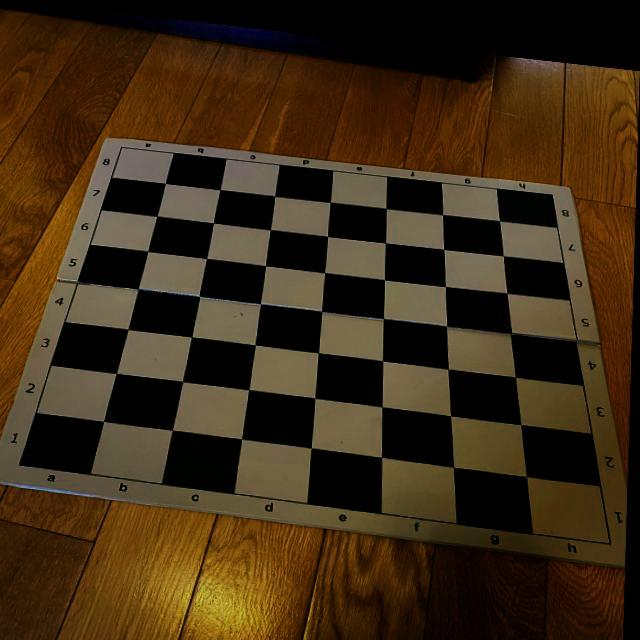chess-table-corners: (18, 457, 28, 472), (546, 176, 558, 188), (608, 523, 620, 534), (116, 140, 128, 149)
